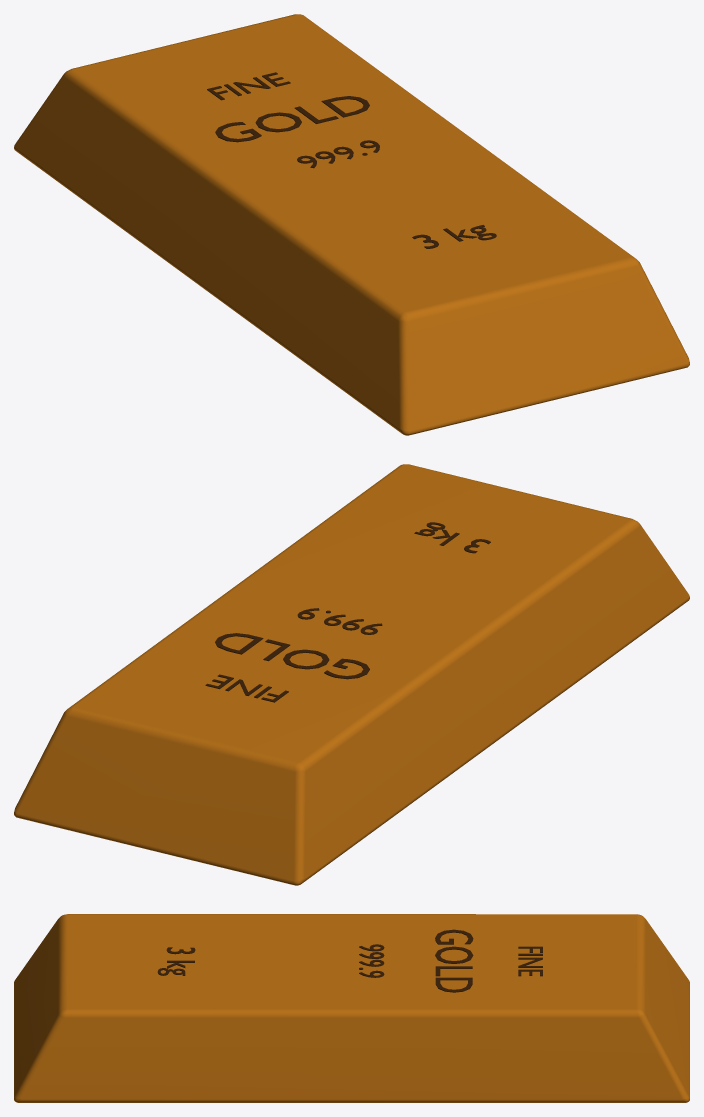
File: gold_ingot.obj
The picture shows the model from 3 angles, top to bottom: view 1: azimuth 30°, elevation 25°; view 2: azimuth 150°, elevation 25°; view 3: azimuth 270°, elevation 25°; orthographic projection. The views are drawn at different scales.
Parts seen in each view (by area): view 1: gold_ingot_static_0, gold_ingot_static_1; view 2: gold_ingot_static_0, gold_ingot_static_1; view 3: gold_ingot_static_0, gold_ingot_static_1.
Part boxes in pixels (<box>): gold_ingot_static_0: <box>14,14,689,435</box>; gold_ingot_static_1: <box>207,72,496,248</box>; gold_ingot_static_0: <box>14,464,689,885</box>; gold_ingot_static_1: <box>205,522,490,702</box>; gold_ingot_static_0: <box>14,914,689,1102</box>; gold_ingot_static_1: <box>157,929,542,992</box>.
Size of the model in its own units: 0.0632 by 0.0202 by 0.1488.
